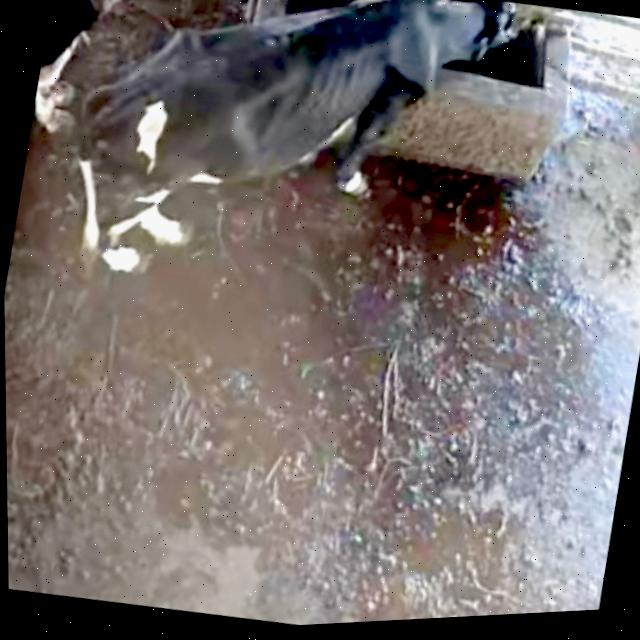drink: (319, 0, 572, 161)
